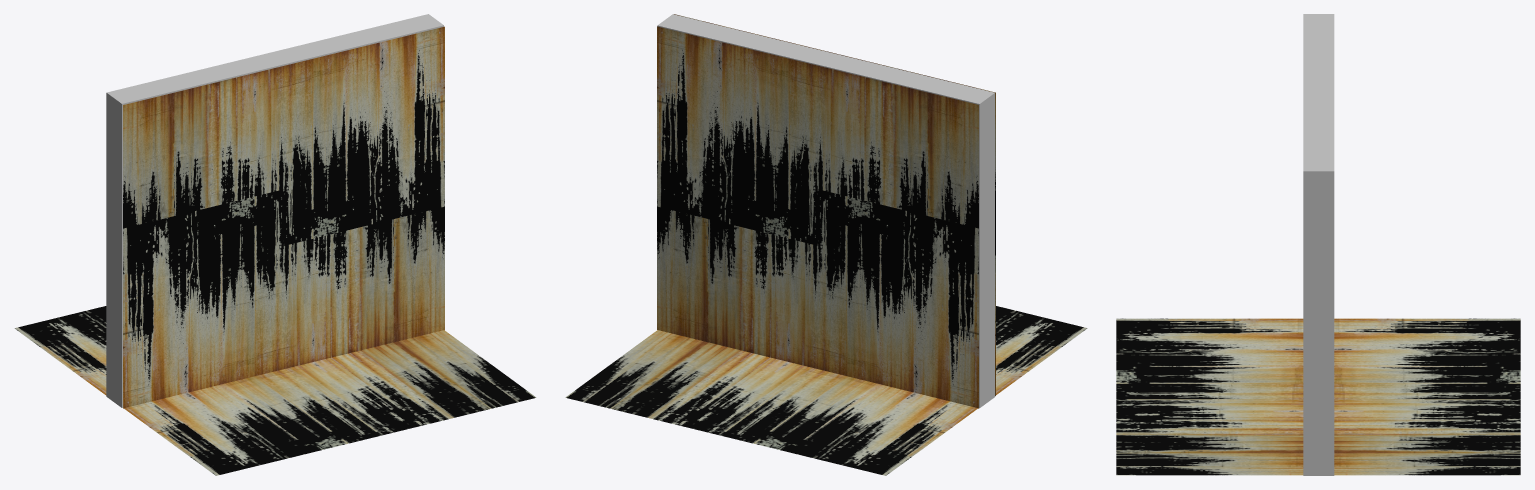
File: TiledBrick8.FBX
The picture shows the model from 3 angles, left to right: view 1: azimuth 30°, elevation 25°; view 2: azimuth 150°, elevation 25°; view 3: azimuth 270°, elevation 25°; orthographic projection.
Parts seen in each view (by area): view 1: TiledBrick8; view 2: TiledBrick8; view 3: TiledBrick8.
Part boxes in pixels (x1,y1,x2,y2): TiledBrick8: (14,14,536,475); TiledBrick8: (565,14,1087,475); TiledBrick8: (1116,14,1520,475).
Size of the model in its own units: 246 by 222 by 267.
